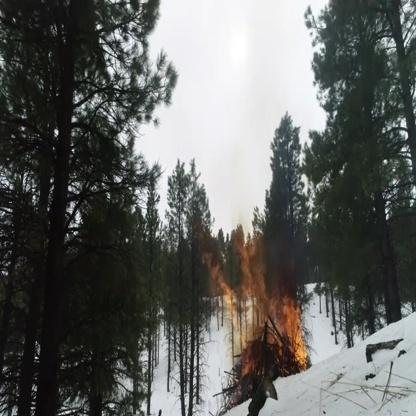Fire: (200, 219, 311, 379)
